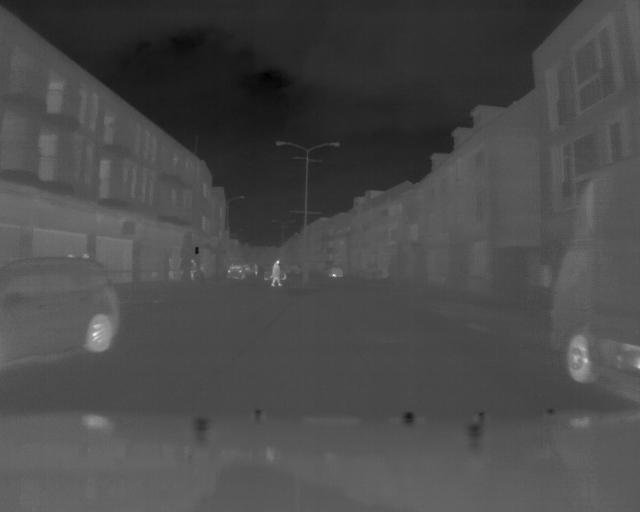car: (554, 243, 640, 392), (1, 257, 123, 361), (225, 263, 245, 282)
person: (271, 259, 284, 288), (189, 257, 198, 282)
